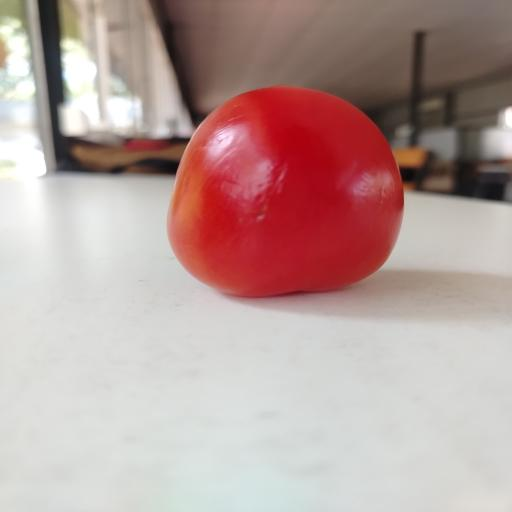ripe: (167, 86, 403, 297)
